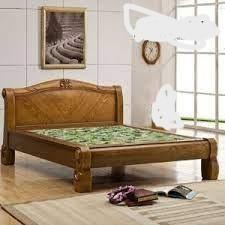Bed-Mattress: (2, 77, 221, 200)
